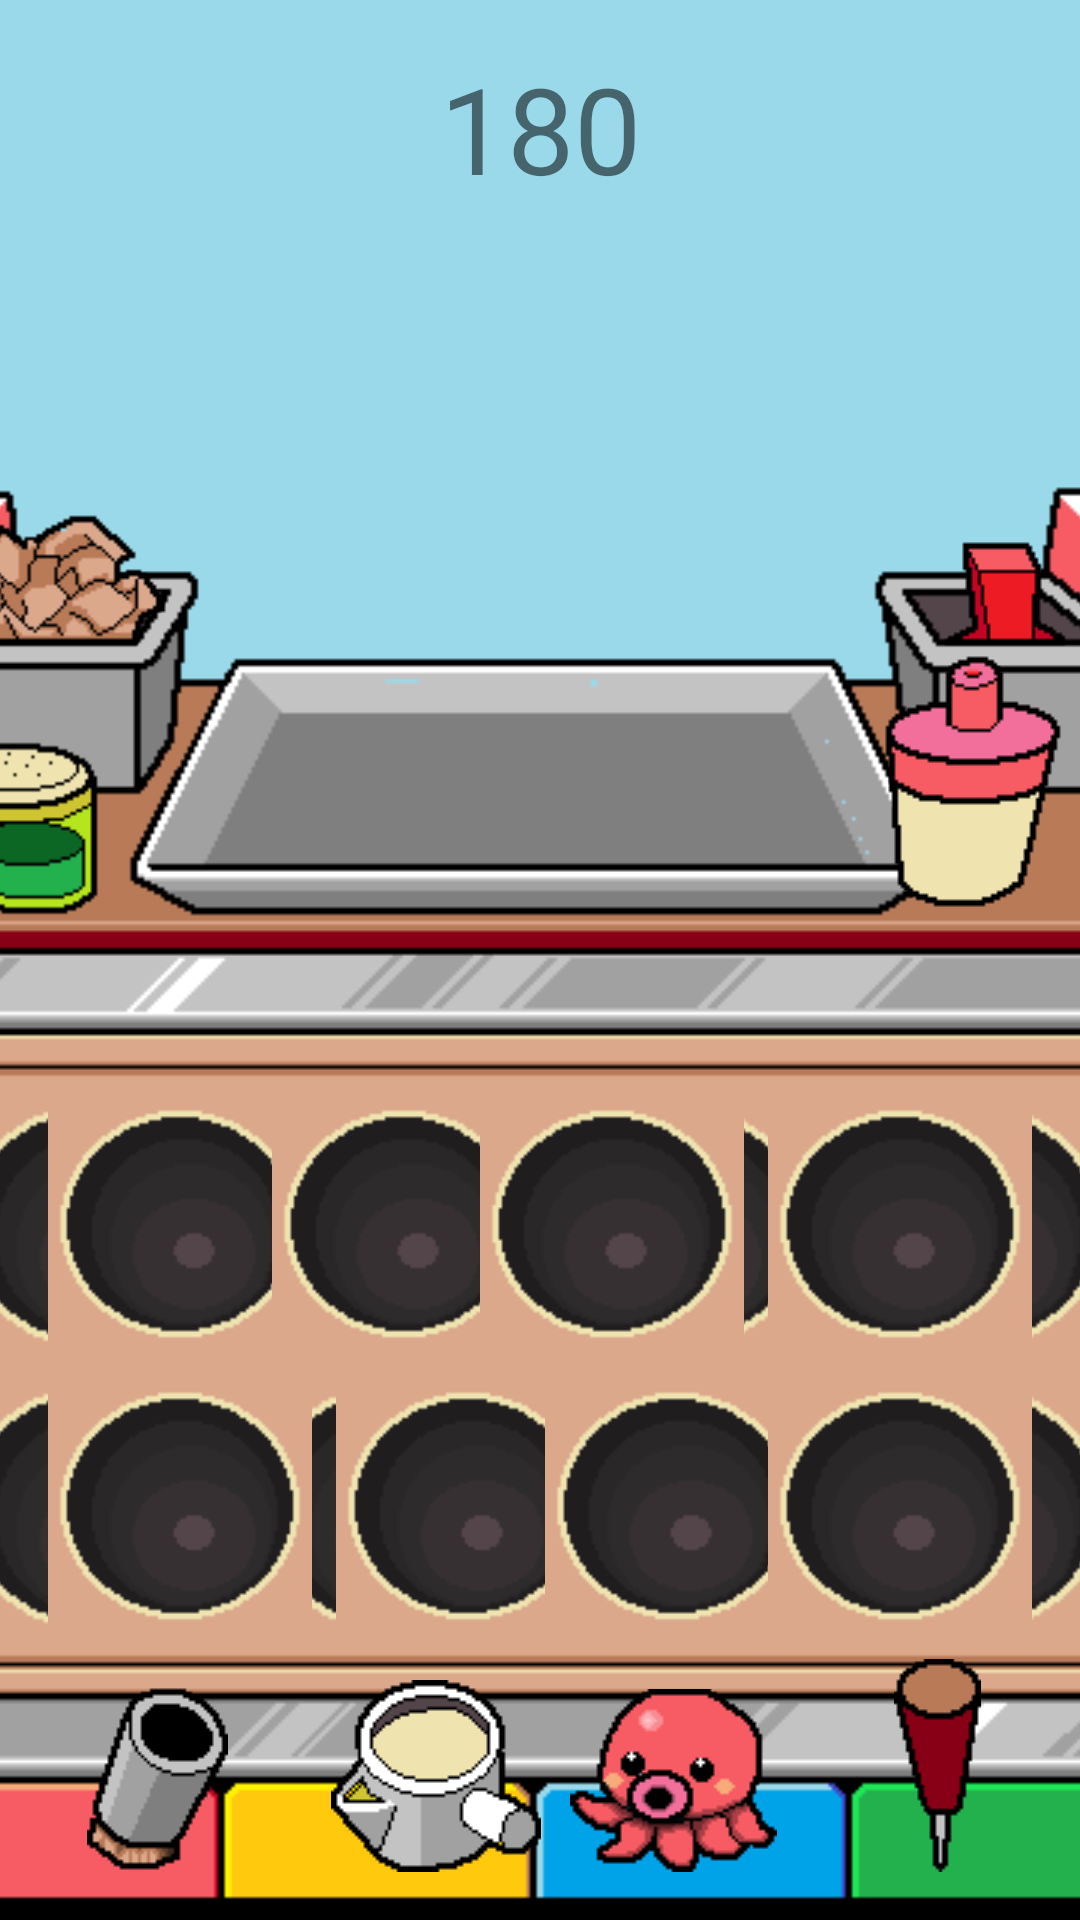

Icons on this 1080w x 1920h Android screen, each with the point to tap as [x,y]:
batter: [436,1776]
greaser: [157,1779]
octopus: [673,1780]
poke: [937,1765]
